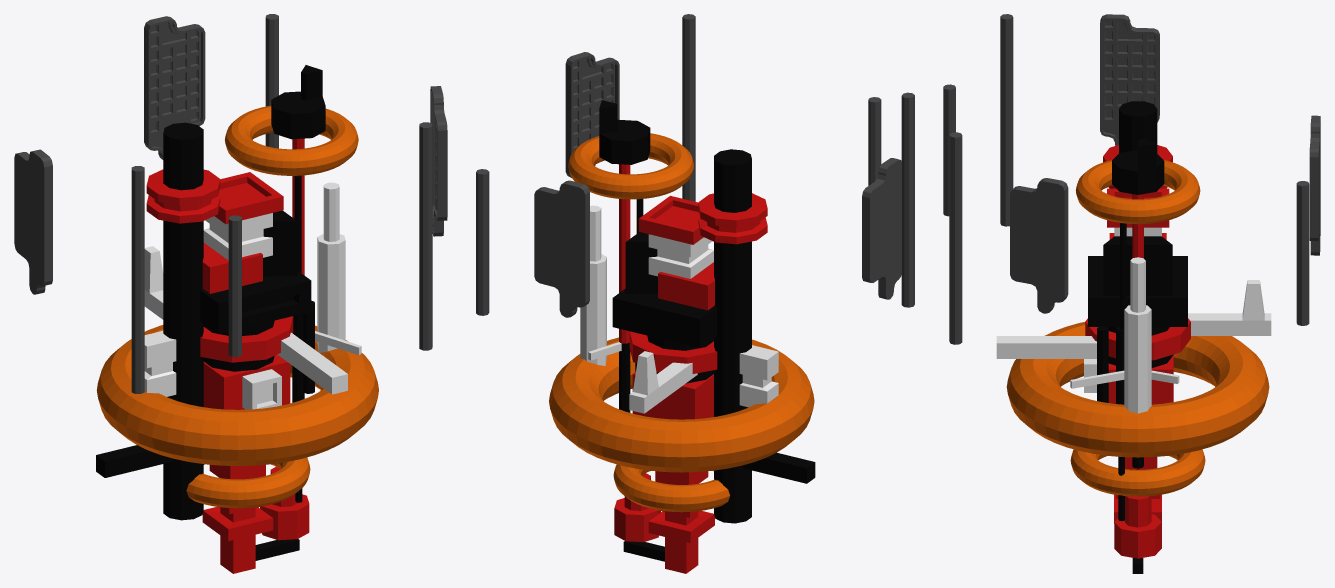
Rendered from spacestation.fbx.
The picture shows the model from 3 angles, left to right: view 1: azimuth 30°, elevation 25°; view 2: azimuth 150°, elevation 25°; view 3: azimuth 270°, elevation 25°; orthographic projection. The views are drawn at different scales.
Visible parts, largest first — view 1: Station, Anim; view 2: Station, Anim; view 3: Station, Anim.
Part boxes in pixels (box(x1,y1,x2,y2)): Station: box(96, 65, 378, 573); Anim: box(14, 14, 447, 393); Station: box(549, 100, 815, 573); Anim: box(476, 14, 914, 317); Station: box(996, 101, 1271, 573); Anim: box(943, 14, 1320, 344).
Bounding box in the file's own units: 16.98 × 21.15 × 15.84.
